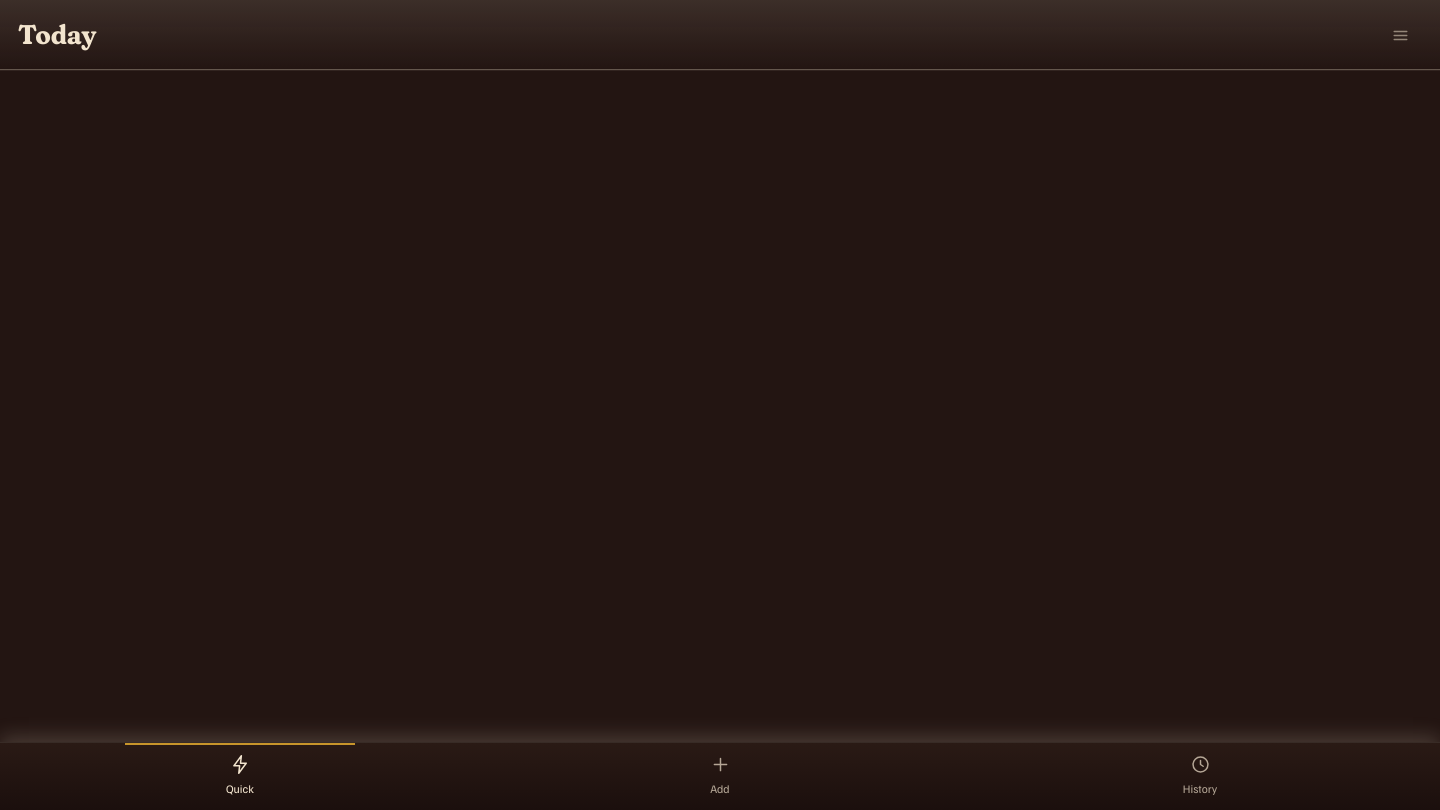
Test case: AppFrame › signs out after the Logout menu action is activated
Step 1. Click the button named "Open menu" → (1400, 35), box [1378, 13, 1422, 57]
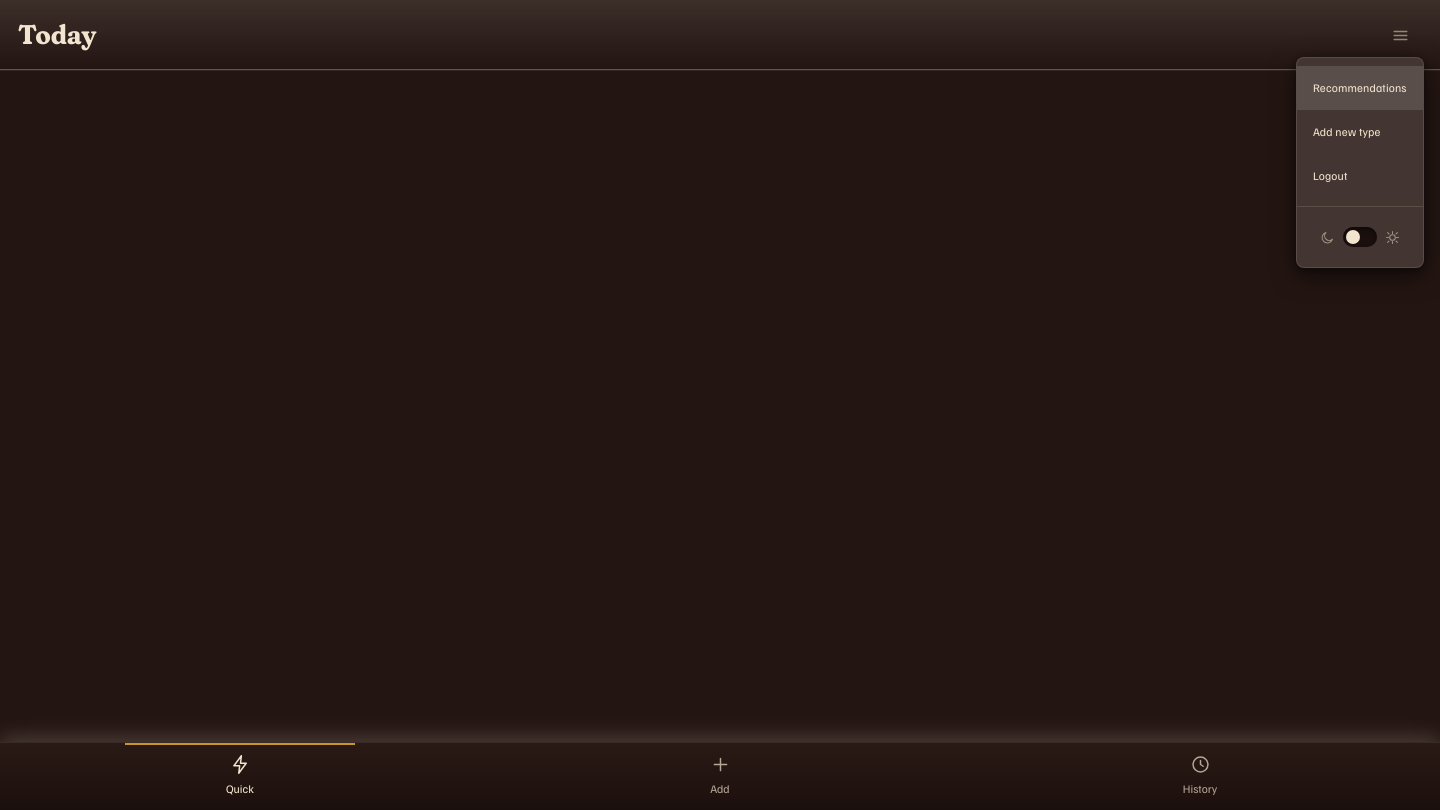
Step 2. Click the menu item "Logout" → (1330, 176), box [1313, 168, 1347, 183]
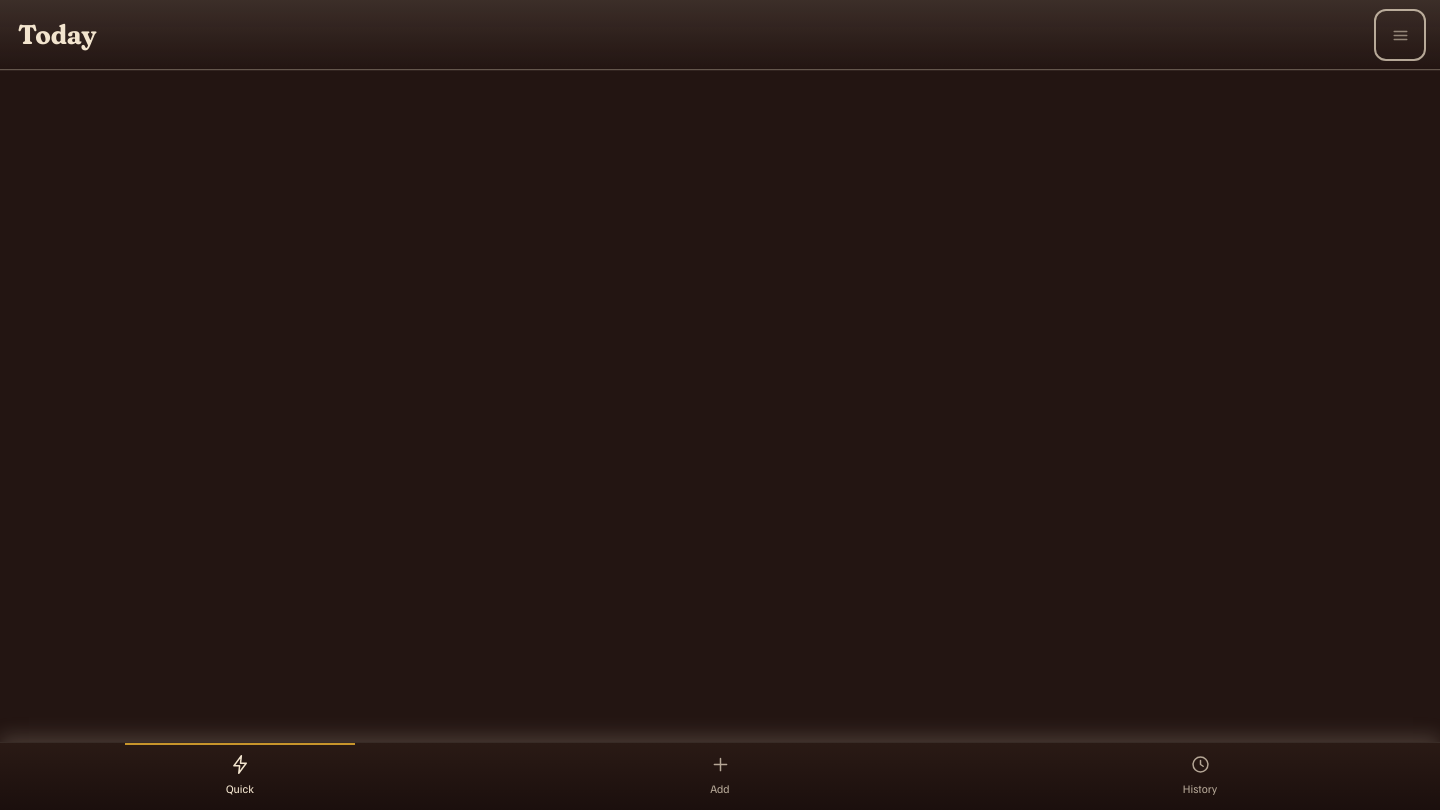
Expected: the menu is gone
